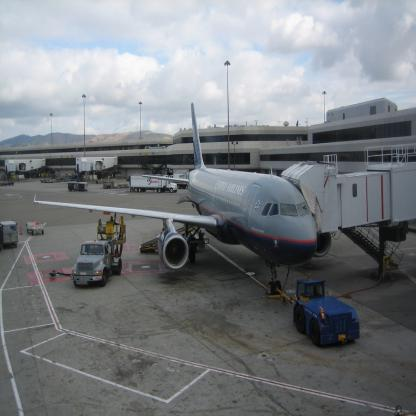Truck: (294, 275, 360, 347), (70, 212, 126, 286), (130, 173, 178, 193), (0, 219, 19, 249)
